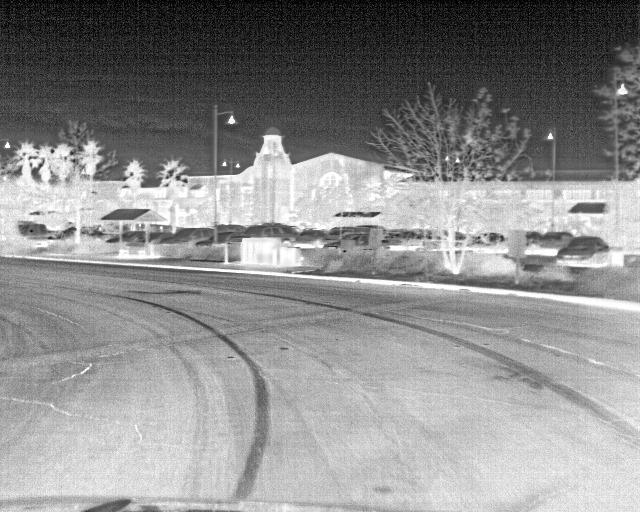car: (555, 235, 612, 269), (225, 222, 301, 246), (158, 227, 216, 248), (323, 230, 370, 248), (532, 230, 573, 250), (17, 221, 60, 240), (385, 228, 422, 249), (296, 226, 326, 249), (120, 229, 147, 243)
